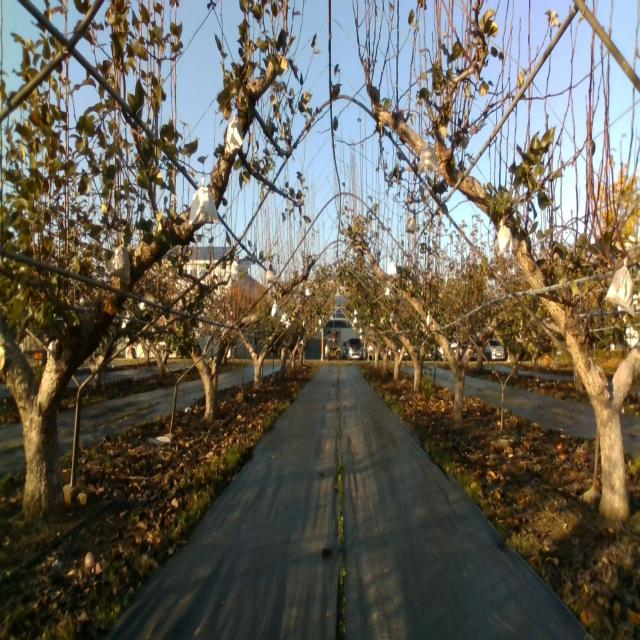pearbags: (603, 261, 634, 316), (188, 175, 220, 228), (105, 242, 131, 284), (418, 142, 440, 175), (226, 115, 244, 154), (497, 220, 517, 253)
